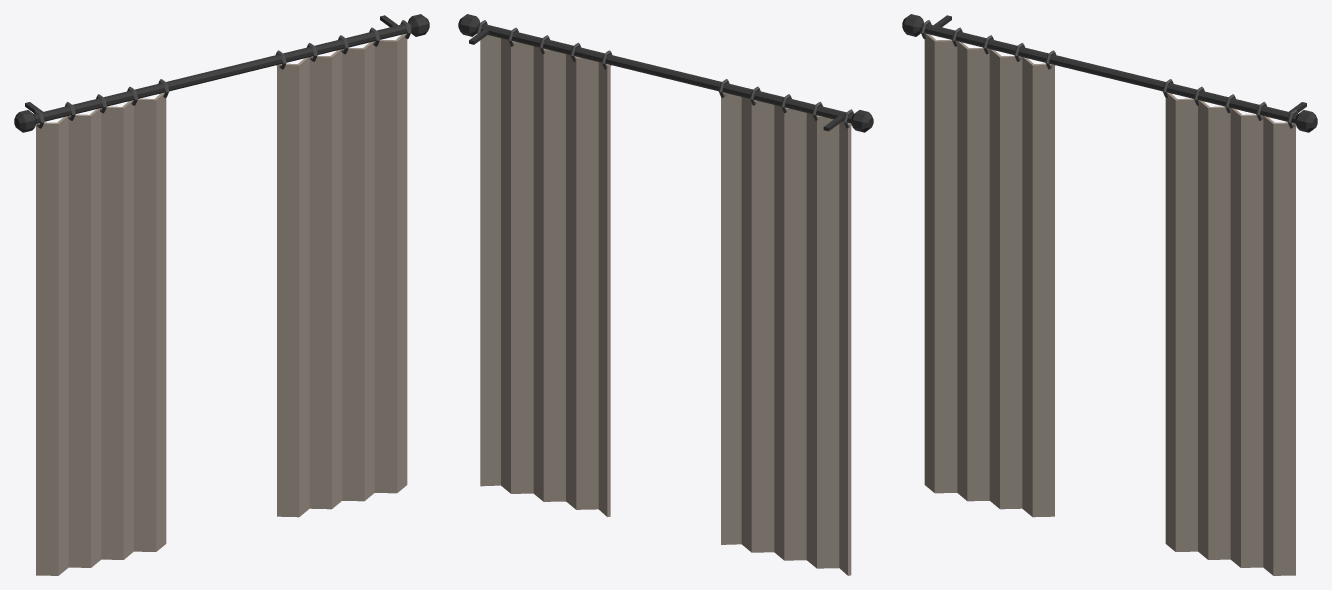
The model's file is Curtains1_C2.fbx.
3 views of the same model, side by side, from view 1: azimuth 30°, elevation 25°; view 2: azimuth 150°, elevation 25°; view 3: azimuth 330°, elevation 25° (orthographic).
Parts seen in each view (by area): view 1: Curtains1_C2; view 2: Curtains1_C2; view 3: Curtains1_C2.
Boxes of the visible parts, bbox=[...] form: Curtains1_C2: bbox=[14, 14, 429, 575]; Curtains1_C2: bbox=[458, 14, 873, 575]; Curtains1_C2: bbox=[902, 14, 1317, 575].
Size of the model in its own units: 138 by 150 by 13.37.
